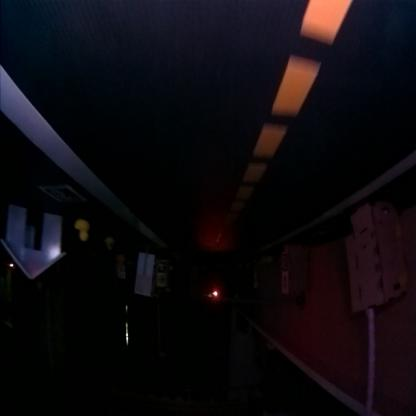Duckie: (74, 220, 90, 242), (106, 238, 115, 250), (117, 256, 125, 268)
QR code: (41, 186, 87, 204), (158, 262, 167, 274), (282, 254, 288, 272)
Traffic light: (212, 289, 221, 299)
